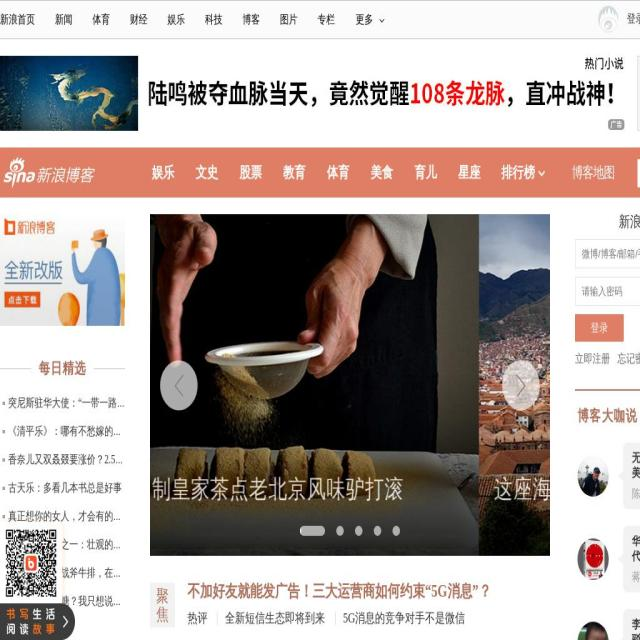button: (0, 56, 625, 131), (0, 506, 75, 640), (152, 214, 552, 226), (491, 148, 555, 198), (403, 148, 448, 198), (141, 148, 185, 198), (185, 148, 229, 198), (228, 148, 272, 198), (272, 148, 316, 198), (316, 148, 360, 198), (360, 148, 404, 198), (448, 148, 492, 198), (572, 148, 614, 198), (345, 1, 395, 38), (595, 1, 640, 39), (0, 214, 152, 225), (0, 1, 45, 38), (45, 1, 83, 38), (82, 1, 120, 38), (120, 1, 158, 38), (157, 1, 195, 38), (195, 1, 233, 38), (232, 1, 270, 38), (270, 1, 308, 38), (307, 1, 345, 38), (575, 314, 624, 342), (552, 214, 640, 226), (575, 352, 610, 366), (617, 351, 640, 366), (637, 56, 640, 131)
field: (575, 276, 640, 306), (575, 240, 640, 268)
heading: (188, 582, 492, 640), (0, 359, 125, 378), (577, 406, 640, 426)
image: (152, 214, 552, 556), (0, 214, 152, 555), (0, 56, 625, 131), (552, 214, 640, 556), (0, 214, 125, 326), (5, 528, 57, 598), (3, 157, 95, 188), (160, 359, 198, 411), (502, 359, 540, 411), (617, 455, 640, 496), (617, 538, 640, 579), (598, 6, 621, 36), (617, 621, 640, 640), (375, 526, 400, 536), (608, 119, 624, 130), (300, 526, 308, 536), (337, 526, 345, 536), (356, 526, 364, 536), (319, 526, 326, 536), (538, 169, 546, 177), (380, 18, 384, 22), (3, 458, 5, 462), (3, 543, 5, 547), (3, 402, 5, 405), (3, 430, 5, 433), (3, 487, 5, 490), (3, 515, 5, 518), (3, 572, 5, 575), (3, 600, 5, 603)
link: (152, 372, 552, 507), (0, 372, 152, 506), (552, 372, 640, 507), (8, 453, 199, 466), (8, 425, 201, 437), (8, 595, 201, 607), (8, 397, 191, 409), (8, 538, 166, 551), (8, 567, 166, 579), (8, 510, 157, 522), (342, 611, 464, 625), (224, 611, 325, 625), (8, 482, 122, 494), (188, 611, 208, 625), (632, 535, 640, 563), (632, 452, 640, 479), (632, 618, 640, 640), (632, 488, 640, 500), (632, 571, 640, 583)
text: (575, 214, 640, 229), (618, 1, 640, 39), (501, 164, 535, 181), (150, 583, 175, 605), (150, 605, 175, 627), (356, 13, 373, 26)
